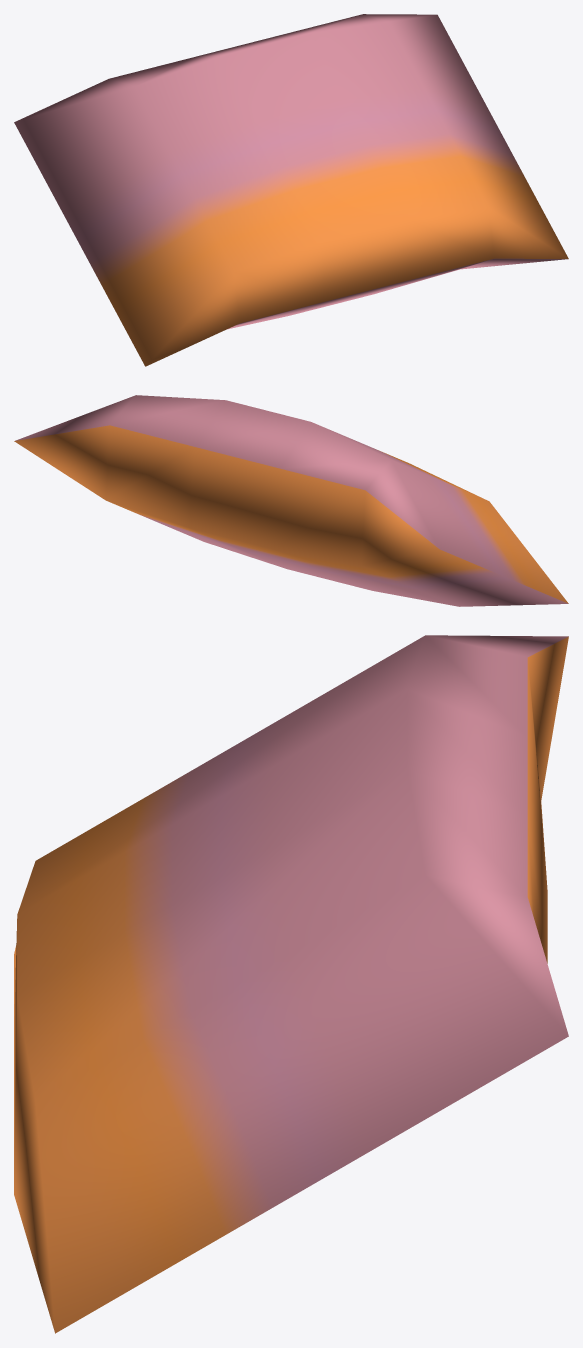
File: Childroom2_Pillow_1.fbx
The picture shows the model from 3 angles, top to bottom: view 1: azimuth 30°, elevation 25°; view 2: azimuth 150°, elevation 25°; view 3: azimuth 270°, elevation 25°; orthographic projection. The views are drawn at different scales.
Parts seen in each view (by area): view 1: Childroom2_Pillow_1; view 2: Childroom2_Pillow_1; view 3: Childroom2_Pillow_1.
Part boxes in pixels (x1,y1,x2,y2): Childroom2_Pillow_1: (14, 14, 568, 366); Childroom2_Pillow_1: (14, 395, 568, 606); Childroom2_Pillow_1: (14, 635, 568, 1333).
Size of the model in its own units: 112 by 54.54 by 64.33.
